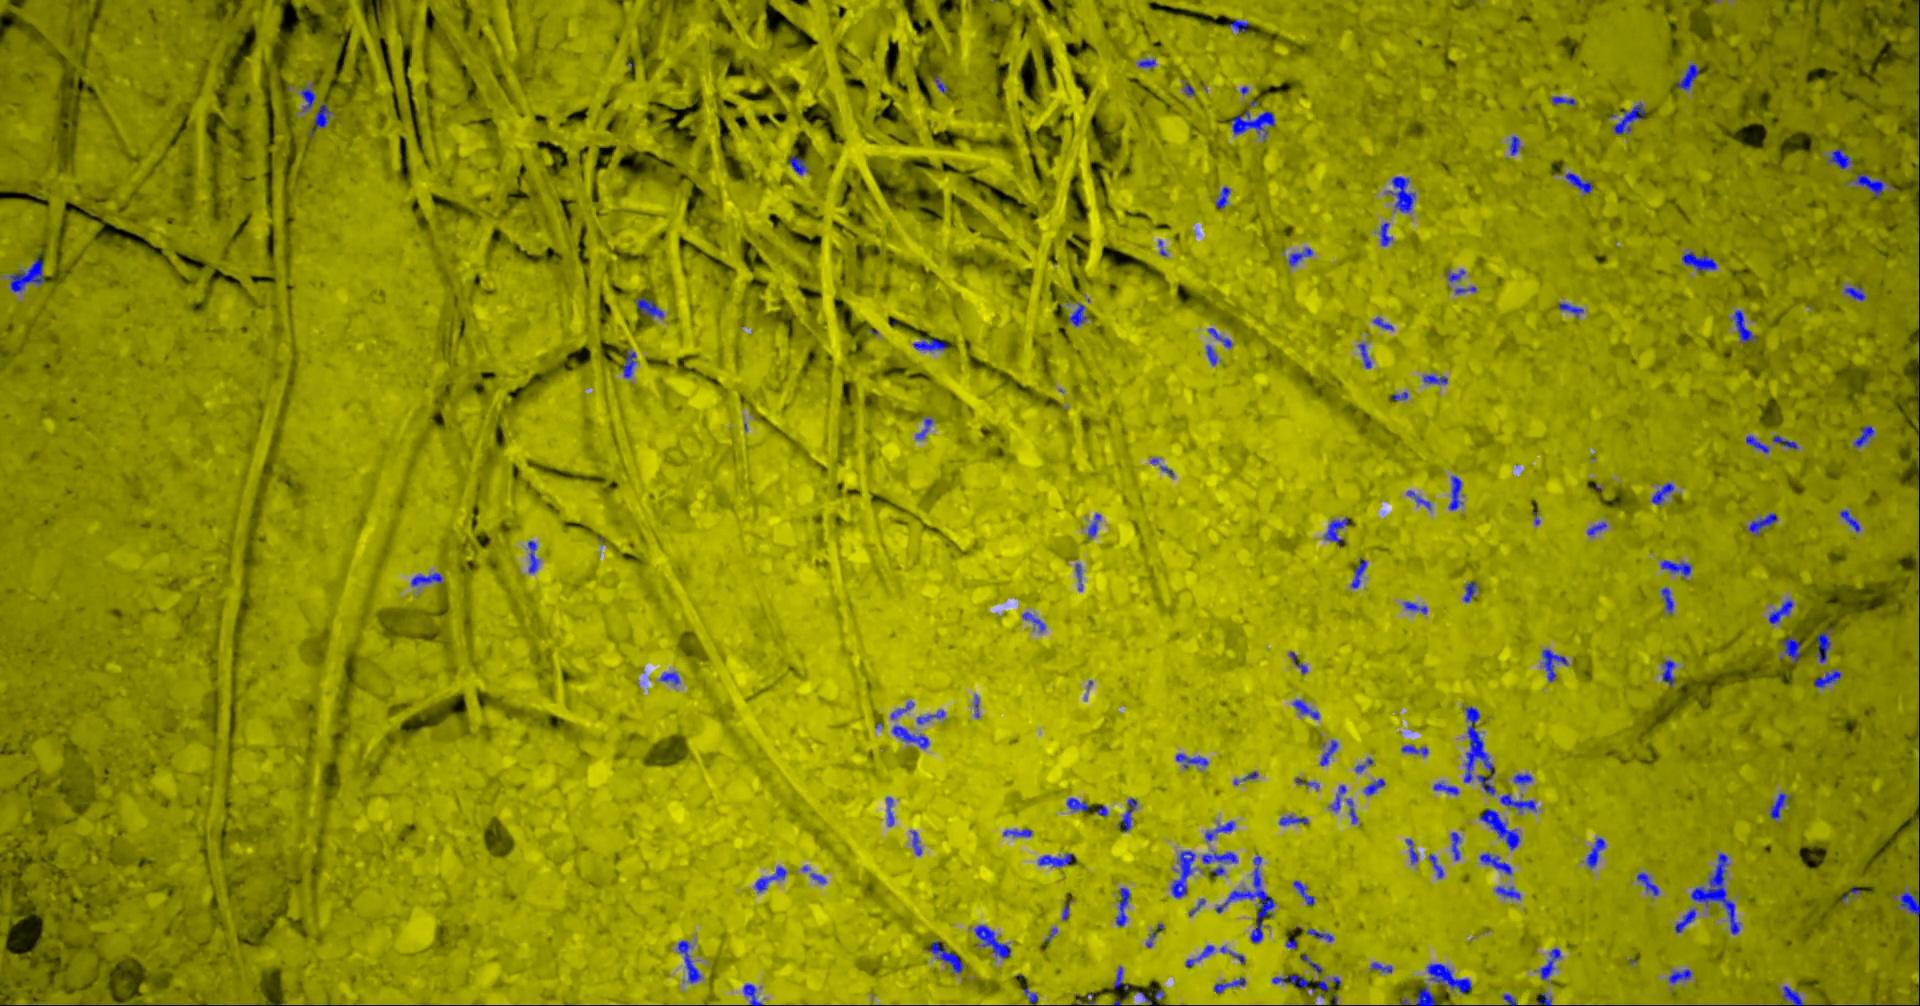ant: (1215, 855, 1274, 942), (1690, 852, 1740, 934), (1463, 705, 1495, 795), (1479, 808, 1520, 850), (1426, 963, 1470, 993), (974, 923, 1010, 958), (1230, 109, 1274, 137), (1170, 850, 1195, 897), (9, 258, 44, 291), (930, 940, 963, 973), (1611, 102, 1644, 133), (677, 940, 701, 982), (1388, 177, 1415, 212), (1271, 974, 1328, 991), (1201, 850, 1236, 876), (1542, 649, 1568, 681), (891, 725, 928, 748), (309, 102, 331, 137), (1732, 309, 1755, 343), (1854, 173, 1884, 198), (754, 866, 786, 890), (1681, 251, 1716, 272), (1479, 852, 1511, 874), (1498, 793, 1537, 810), (1117, 796, 1137, 831), (1323, 517, 1349, 542), (1539, 948, 1559, 979), (1185, 945, 1214, 967), (1675, 64, 1698, 90), (1564, 171, 1592, 193), (1749, 512, 1777, 533), (1204, 821, 1234, 840), (1586, 837, 1605, 868), (1769, 793, 1790, 819), (1897, 890, 1919, 917), (635, 297, 663, 318), (1768, 600, 1792, 622), (1115, 887, 1129, 926), (1780, 636, 1801, 663), (1291, 699, 1318, 719), (1213, 977, 1244, 993), (1816, 627, 1831, 662), (1636, 873, 1658, 895), (1674, 908, 1695, 932), (1350, 558, 1366, 588), (1660, 559, 1690, 575), (1448, 475, 1462, 511), (1651, 481, 1672, 504), (1021, 611, 1045, 631), (1293, 880, 1313, 904), (1037, 854, 1076, 866), (912, 337, 946, 351), (1813, 669, 1840, 687), (1067, 302, 1087, 325), (1208, 326, 1230, 347), (1415, 984, 1437, 1005), (1175, 753, 1208, 767), (1288, 246, 1312, 265), (1745, 434, 1769, 453), (1406, 490, 1430, 509), (410, 572, 442, 586), (1330, 784, 1346, 810), (1853, 426, 1874, 446), (1839, 509, 1859, 531), (742, 983, 762, 1005), (1782, 984, 1803, 1005), (1319, 741, 1337, 765), (1145, 923, 1163, 948), (1219, 946, 1244, 963), (1829, 149, 1850, 168), (300, 84, 315, 111), (890, 700, 913, 718), (916, 709, 943, 723), (1302, 953, 1322, 972), (1289, 652, 1307, 673), (1661, 659, 1675, 686), (789, 155, 808, 174), (527, 540, 538, 572), (916, 418, 932, 439), (1363, 779, 1384, 795), (1558, 304, 1583, 318), (1357, 343, 1371, 368), (1771, 434, 1797, 448), (1305, 929, 1333, 941), (1215, 185, 1230, 208), (1112, 967, 1128, 989), (1669, 968, 1691, 983), (622, 351, 635, 377), (1660, 587, 1672, 614), (1429, 854, 1443, 878), (1843, 286, 1865, 300), (1065, 796, 1088, 810), (1277, 815, 1308, 826), (1087, 513, 1100, 537), (1403, 601, 1427, 614), (1404, 838, 1417, 862), (1495, 887, 1519, 899), (1462, 580, 1476, 602), (1450, 831, 1460, 860), (1021, 987, 1037, 1005), (1379, 222, 1392, 245), (1354, 757, 1373, 772), (1432, 782, 1458, 794), (1346, 798, 1357, 823), (1586, 521, 1606, 535), (1371, 318, 1393, 330), (659, 671, 679, 683), (910, 829, 921, 855), (1423, 373, 1448, 384), (1401, 746, 1427, 754), (1228, 19, 1248, 30), (1205, 344, 1217, 365), (885, 796, 893, 826), (1550, 97, 1575, 105), (1003, 828, 1031, 836), (1509, 135, 1519, 155), (1446, 269, 1464, 281), (1537, 991, 1550, 1005), (1137, 58, 1156, 69), (1512, 774, 1531, 784), (1371, 962, 1390, 972), (1076, 563, 1082, 591), (1502, 993, 1517, 1005), (1183, 81, 1195, 95), (1389, 391, 1407, 400), (1917, 5, 1919, 67)
